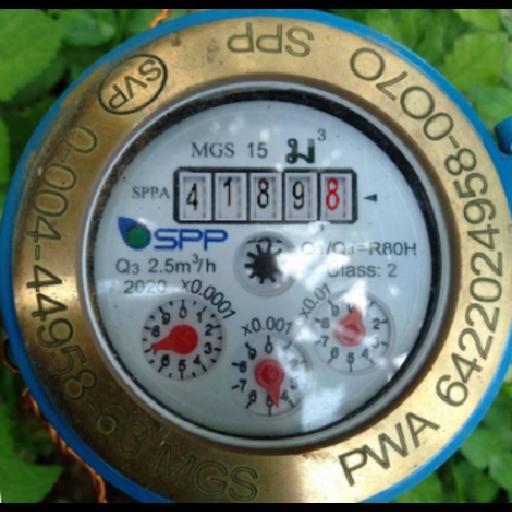1: (218, 178, 238, 219)
4: (184, 178, 205, 218)
8: (254, 178, 274, 220), (326, 179, 347, 218)
9: (291, 179, 310, 219)
border_water_meter_number: (174, 167, 359, 225)
